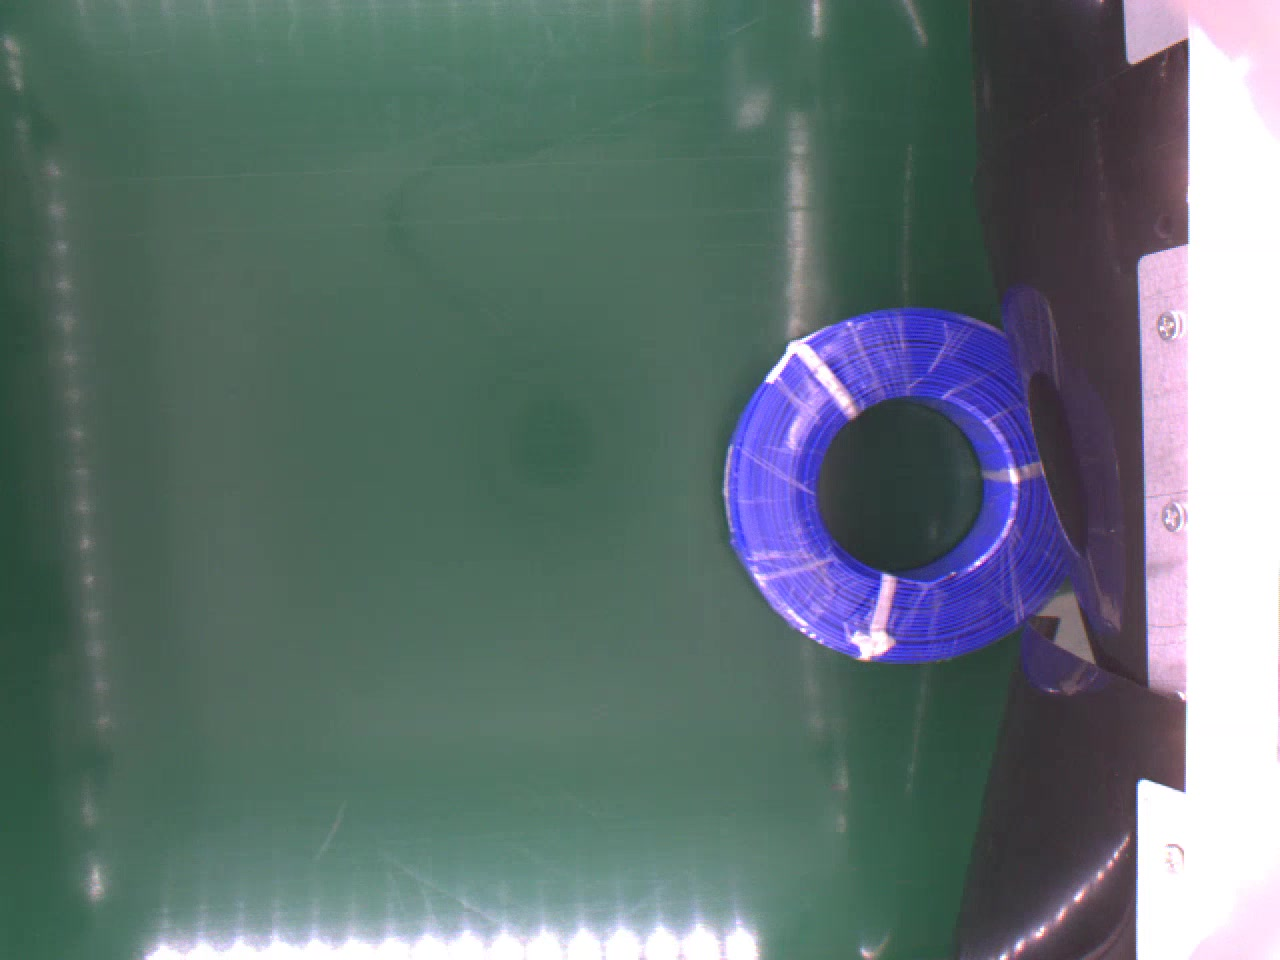blue: (720, 307, 1069, 669)
